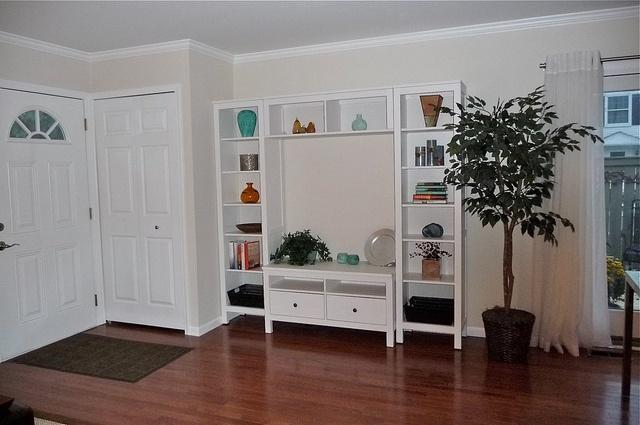Rak: (393, 78, 466, 349), (211, 96, 271, 333)
